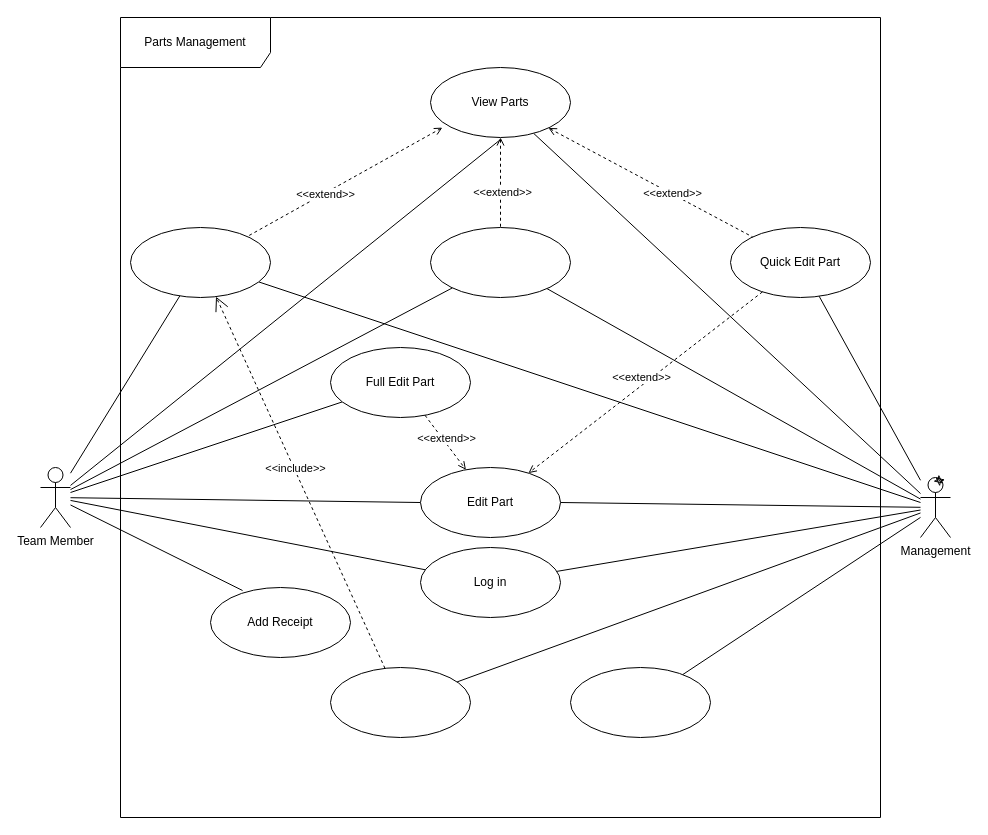
Image size: 988x835. Some labels were removed from this diagram. The centre of each missing label's shape, as x and y in pixels:
Check Receipts: (400,702)
Create Subassembly: (640,702)
Filter Parts: (200,262)
View Part Details: (500,262)
